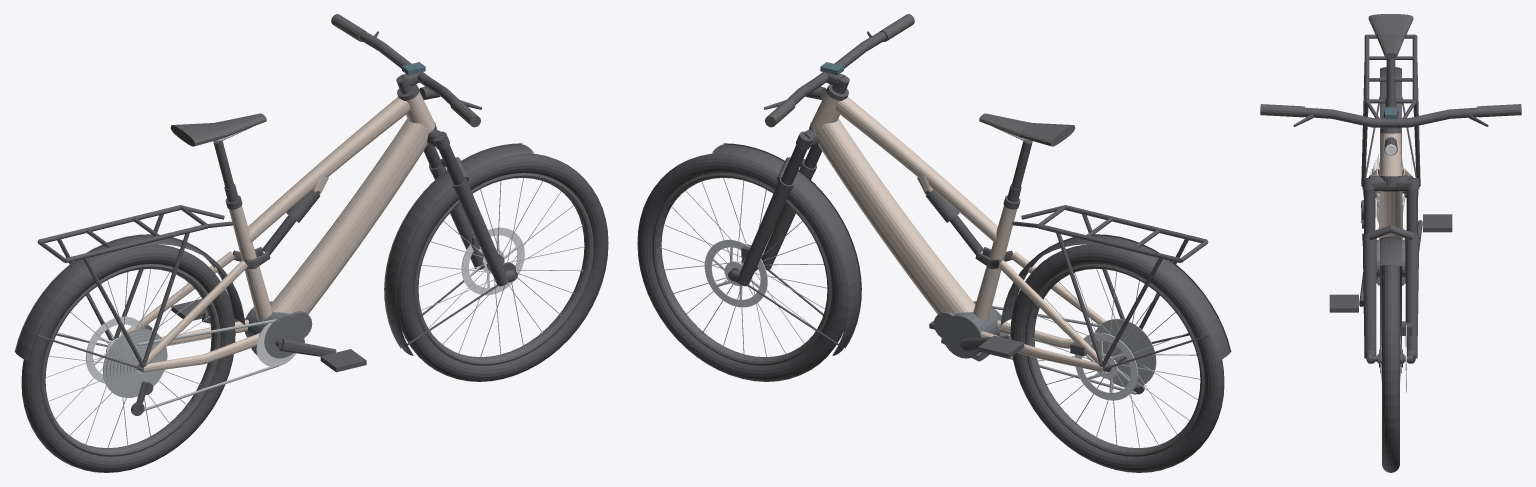
File: ebike-mtb-focus-aventura-fs-6-9.glb
3 renders of one model, left to right at view 1: azimuth 30°, elevation 25°; view 2: azimuth 150°, elevation 25°; view 3: azimuth 270°, elevation 25°, orthographic. The views are drawn at different scales.
Parts seen in each view (by area): view 1: front_wheel_tire, rear_wheel_tire, accessories_fenders, frame_downtube, accessories_rear_rack, front_wheel_rim, rear_wheel_rim, frame_toptube, fork_lowers, drivetrain_cassette, front_wheel_spokes, rear_seatstays (+13 smaller); view 2: front_wheel_tire, rear_wheel_tire, accessories_fenders, frame_downtube, accessories_rear_rack, front_wheel_rim, rear_wheel_rim, frame_toptube, fork_lowers, drivetrain_cassette, ebike_motor_housing, rear_seatstays (+12 smaller); view 3: front_wheel_tire, fork_lowers, accessories_rear_rack, accessories_fenders, cockpit_riser_bar, drivetrain_crankset, saddle_shell, frame_downtube, fork_stanchions, cockpit_grips, fork_crown, frame_headtube (+2 smaller).
Boxes of the visible parts, x1,y1,x2,y2 form: front_wheel_tire: (397,153,608,381); rear_wheel_tire: (21,244,235,472); accessories_fenders: (14,143,533,370); frame_downtube: (270,118,431,314); accessories_rear_rack: (37,205,233,367); front_wheel_rim: (414,173,593,365); rear_wheel_rim: (41,264,220,456); frame_toptube: (248,97,410,242); fork_lowers: (429,157,517,286); drivetrain_cassette: (102,328,167,397); front_wheel_spokes: (419,178,584,358); rear_seatstays: (118,251,247,366); front_wheel_tire: (637,153,848,381); rear_wheel_tire: (1010,244,1224,472); accessories_fenders: (712,143,1231,370); frame_downtube: (814,118,975,314); accessories_rear_rack: (1012,205,1208,367); front_wheel_rim: (652,173,831,365); rear_wheel_rim: (1025,264,1204,456); frame_toptube: (835,97,997,242); fork_lowers: (728,157,816,286); drivetrain_cassette: (1091,319,1156,387); ebike_motor_housing: (933,301,1000,361); rear_seatstays: (998,251,1106,366); front_wheel_tire: (1382,265,1399,472); fork_lowers: (1362,225,1419,363); accessories_rear_rack: (1361,34,1420,186); accessories_fenders: (1362,67,1419,373); cockpit_riser_bar: (1295,107,1485,127); drivetrain_crankset: (1329,214,1452,312); saddle_shell: (1368,14,1413,58); frame_downtube: (1378,168,1403,260); fork_stanchions: (1364,189,1417,233); cockpit_grips: (1260,104,1521,117); fork_crown: (1362,175,1419,191); frame_headtube: (1380,133,1401,176).
Size of the model in its own units: 1.9 by 1.04 by 0.7833.
